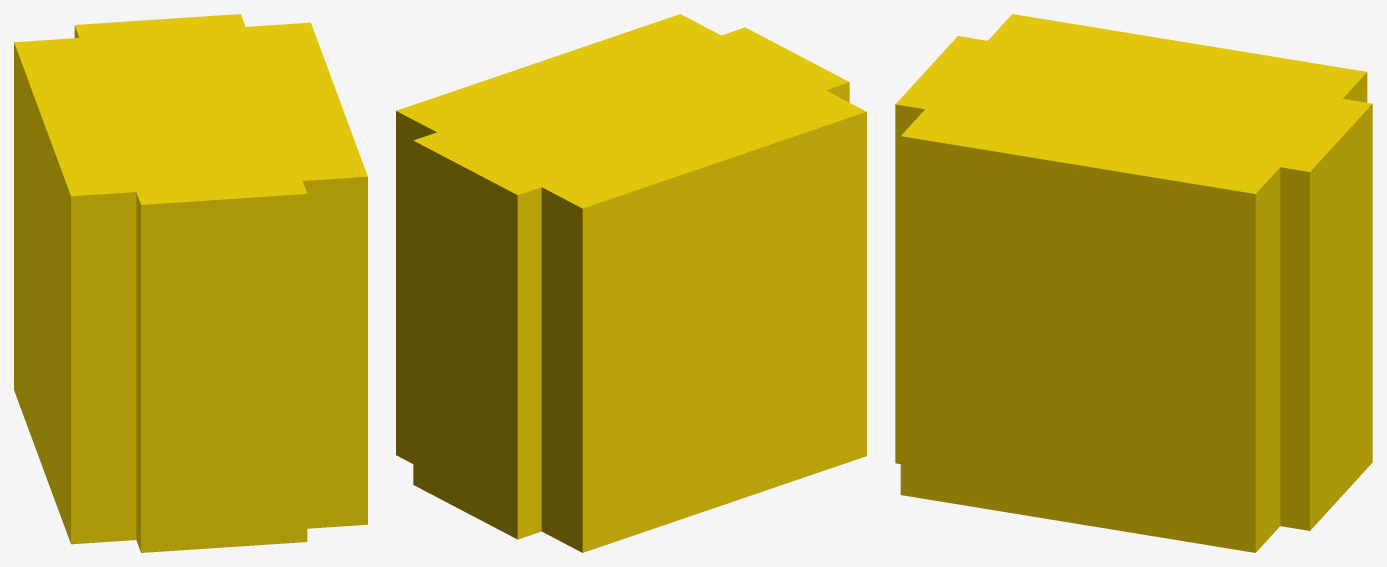
3 views of the same model, side by side, from view 1: azimuth 30°, elevation 25°; view 2: azimuth 150°, elevation 25°; view 3: azimuth 270°, elevation 25° (orthographic). The views are drawn at different scales.
Visible parts, largest first — view 1: Cube_4, Cube__1__4; view 2: Cube_4, Cube__1__4; view 3: Cube_4, Cube__1__4.
Boxes of the visible parts, x1,y1,x2,y2 form: Cube_4: [14, 22, 367, 544]; Cube__1__4: [74, 14, 307, 552]; Cube_4: [396, 14, 866, 552]; Cube__1__4: [413, 27, 849, 539]; Cube_4: [900, 14, 1367, 552]; Cube__1__4: [895, 36, 1372, 530].
Bounding box in the file's own units: 1897 × 1763 × 2125.
